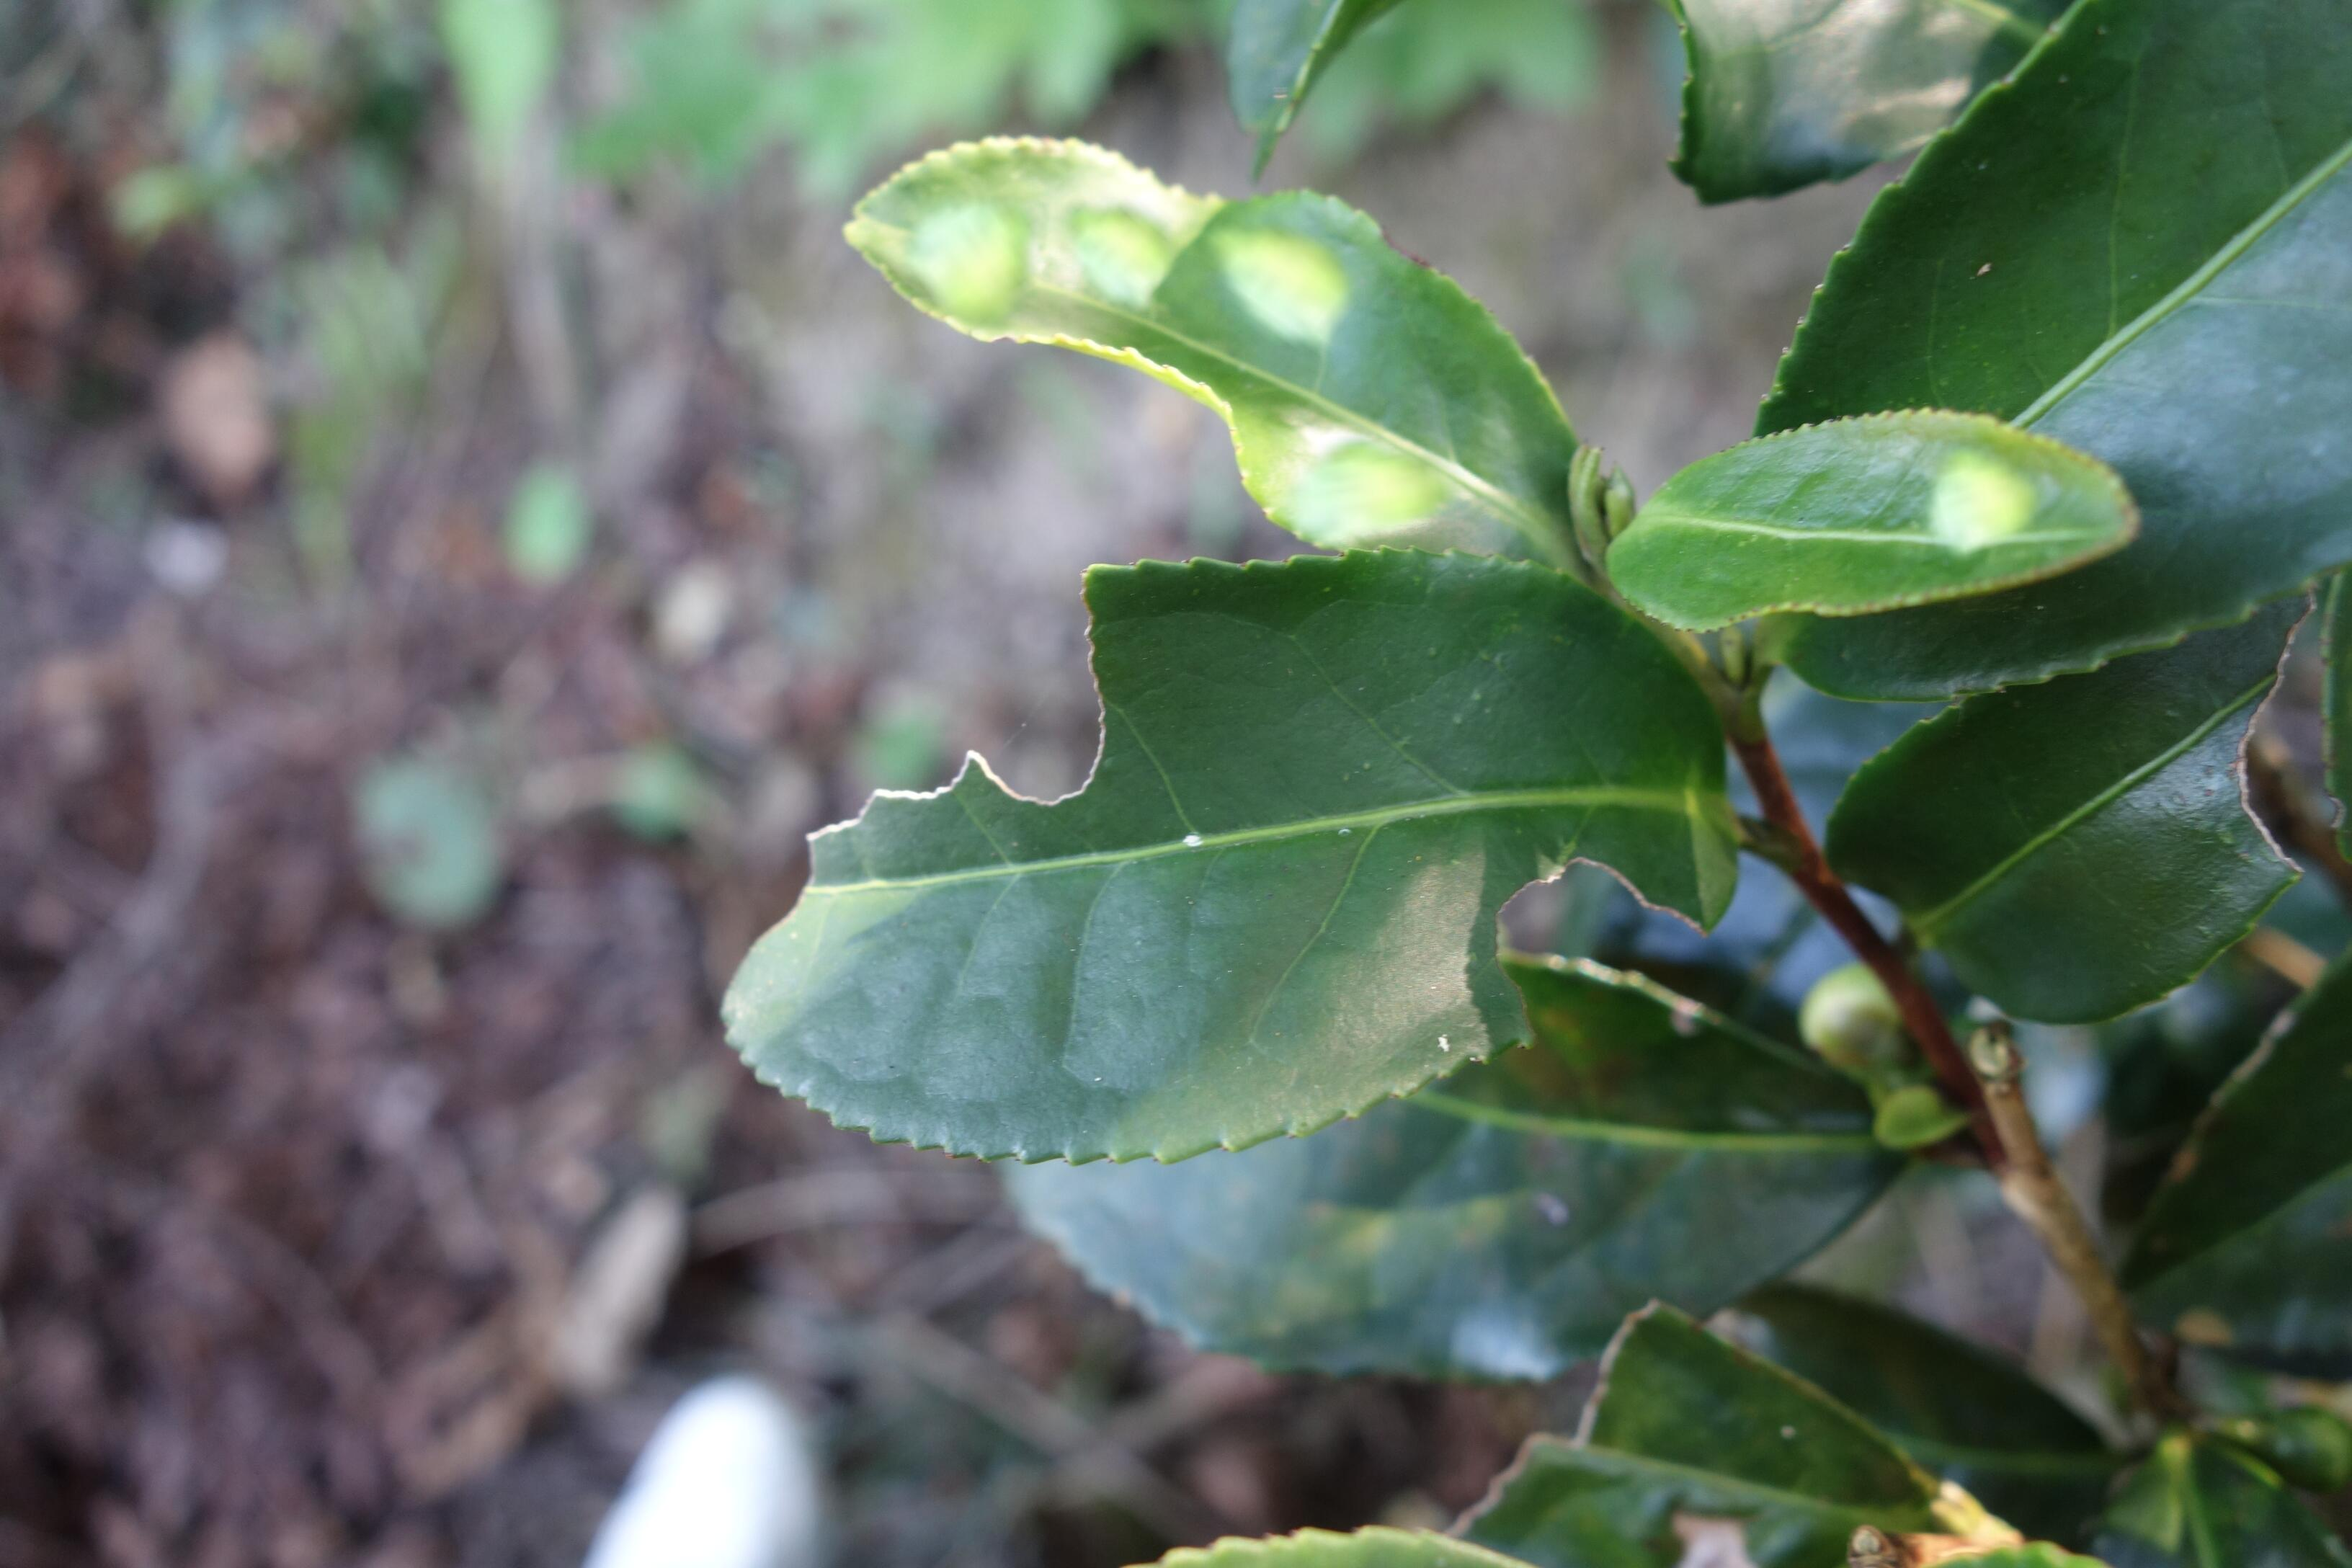chabing_high: (836, 133, 1610, 562)
chabing_low: (1603, 409, 2142, 633)
chihuo_high: (721, 544, 1748, 1164)
chihuo_low: (1829, 616, 2313, 1027)
